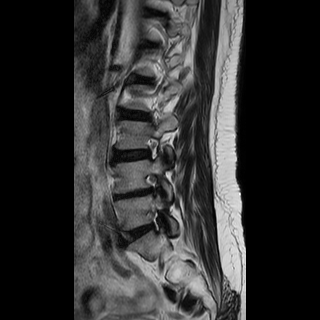RFS0: (141, 169, 164, 202), (141, 131, 162, 166)
RFS2: (142, 205, 167, 237)
